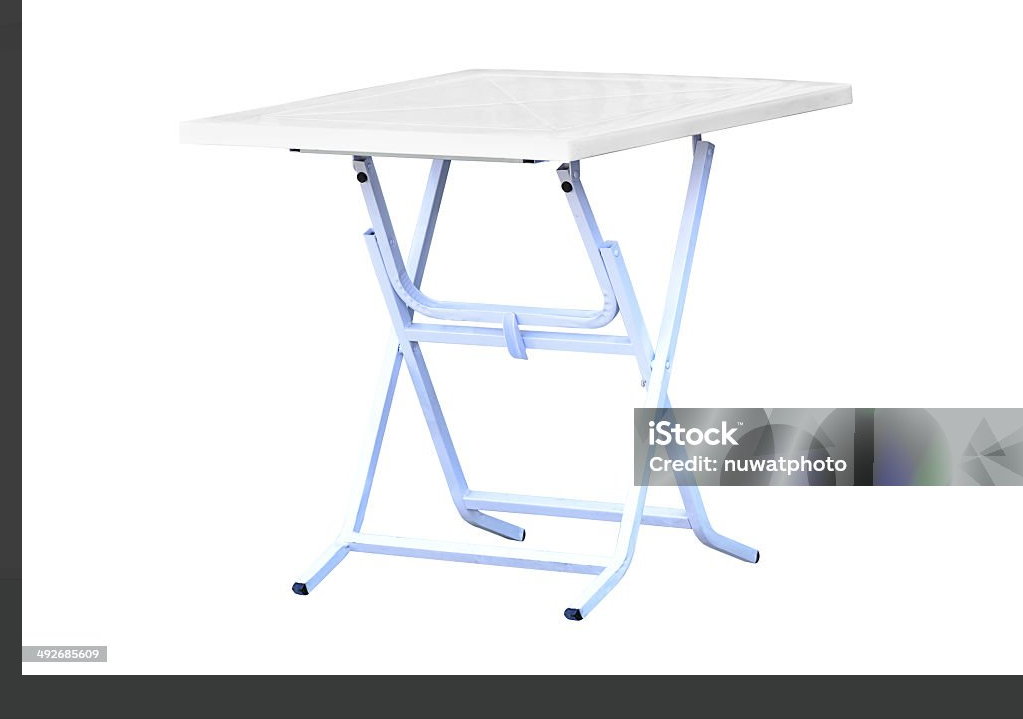obstacle: (171, 62, 858, 621)
